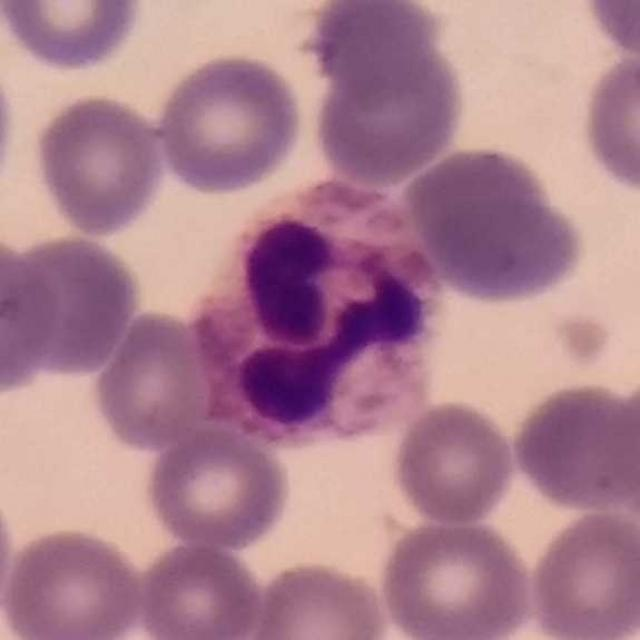Neutrophil: (193, 183, 457, 460)
Platelets: (545, 307, 622, 372)
RBC: (402, 142, 590, 308), (306, 19, 470, 188), (152, 49, 308, 198), (3, 230, 145, 384), (30, 90, 169, 239), (376, 514, 537, 639), (142, 424, 294, 552), (88, 305, 217, 454), (508, 377, 640, 516), (0, 523, 147, 640), (388, 396, 518, 528), (299, 0, 451, 104), (523, 505, 640, 640), (133, 538, 266, 640), (247, 556, 391, 640), (0, 0, 149, 75), (0, 234, 63, 399), (576, 48, 640, 197), (603, 374, 639, 530), (579, 0, 640, 61), (0, 50, 19, 212)
